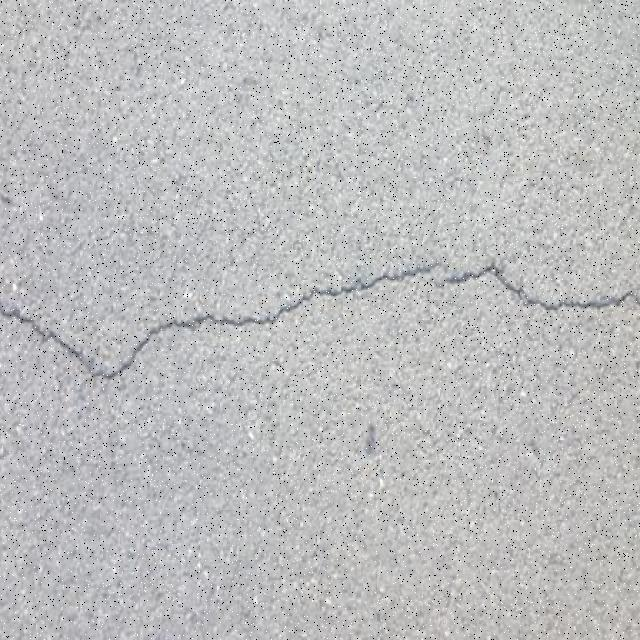minor crack: (498, 266, 636, 310), (1, 296, 38, 325)
moderate crack: (7, 252, 638, 372), (319, 260, 442, 296), (80, 340, 153, 379), (238, 288, 321, 321), (161, 304, 248, 335)
severe crack: (504, 335, 623, 438), (518, 292, 546, 306)
